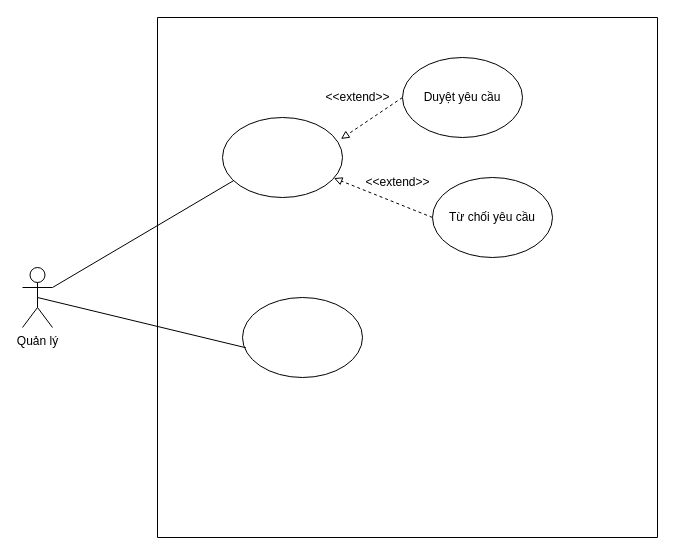
The diagram is 675 pixels wide and 555 high, and some of its shapes have lost their labels. Here are the shapes that lost their labels. From the top down, the box of each, then its label:
(222, 116, 342, 198): Xem yêu cầu đã tạo
(242, 296, 362, 378): Tạo yêu cầu mới
